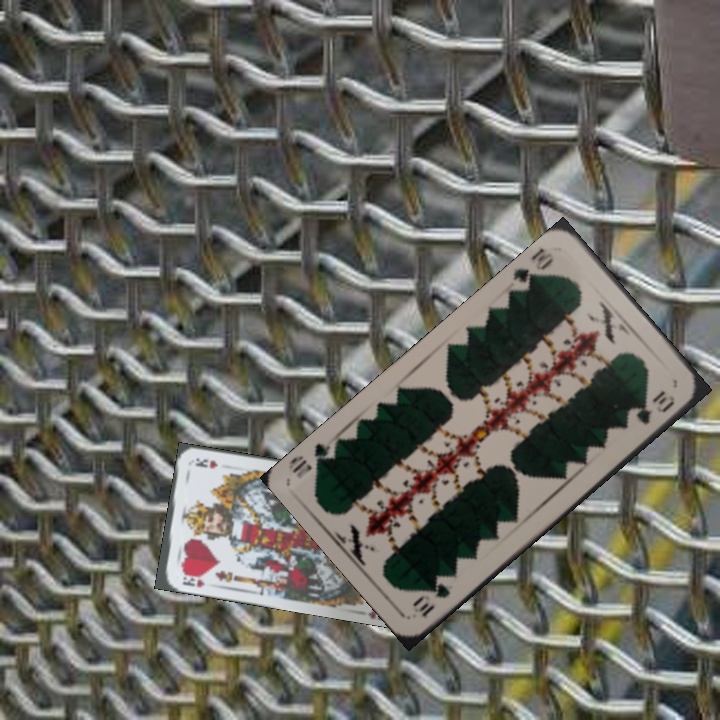G10: (509, 244, 556, 295), (408, 579, 453, 620)
HK: (178, 573, 207, 590)
